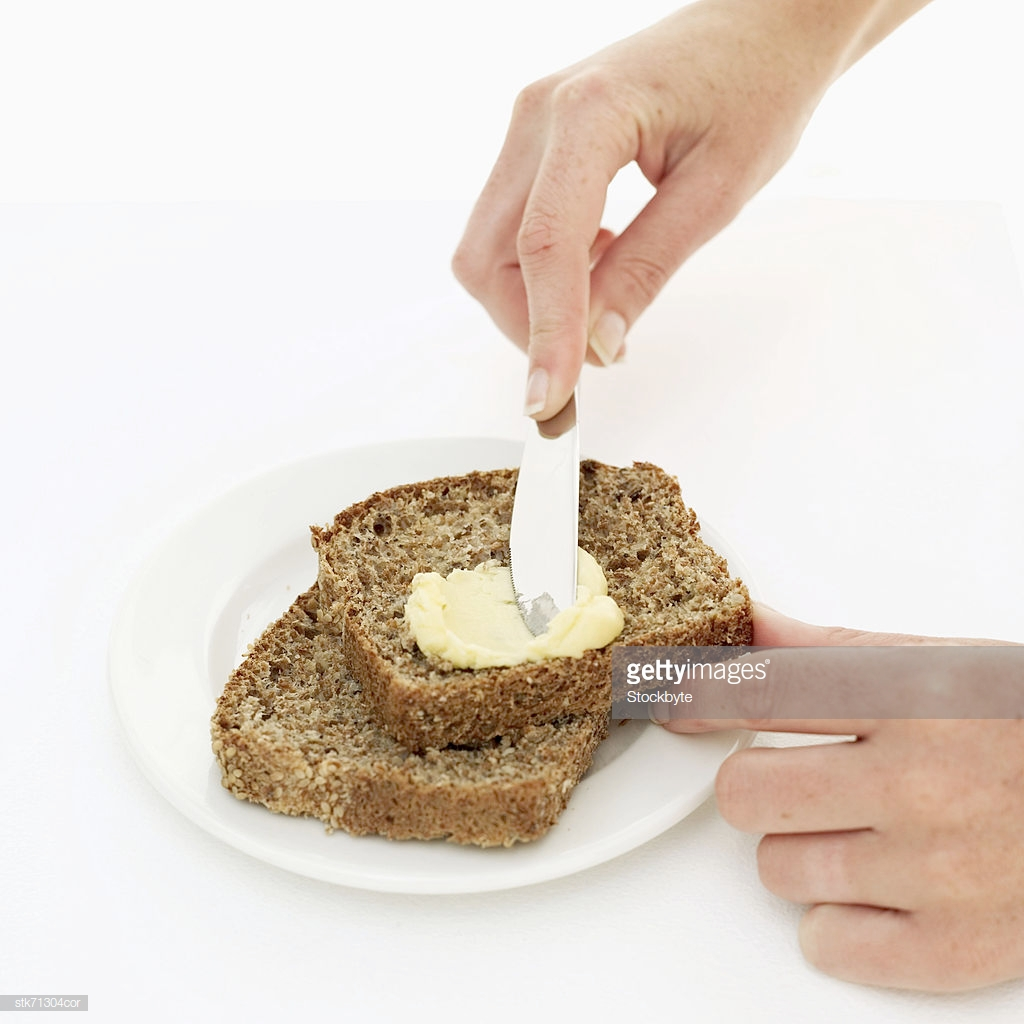slice of bread: (219, 653, 568, 850)
